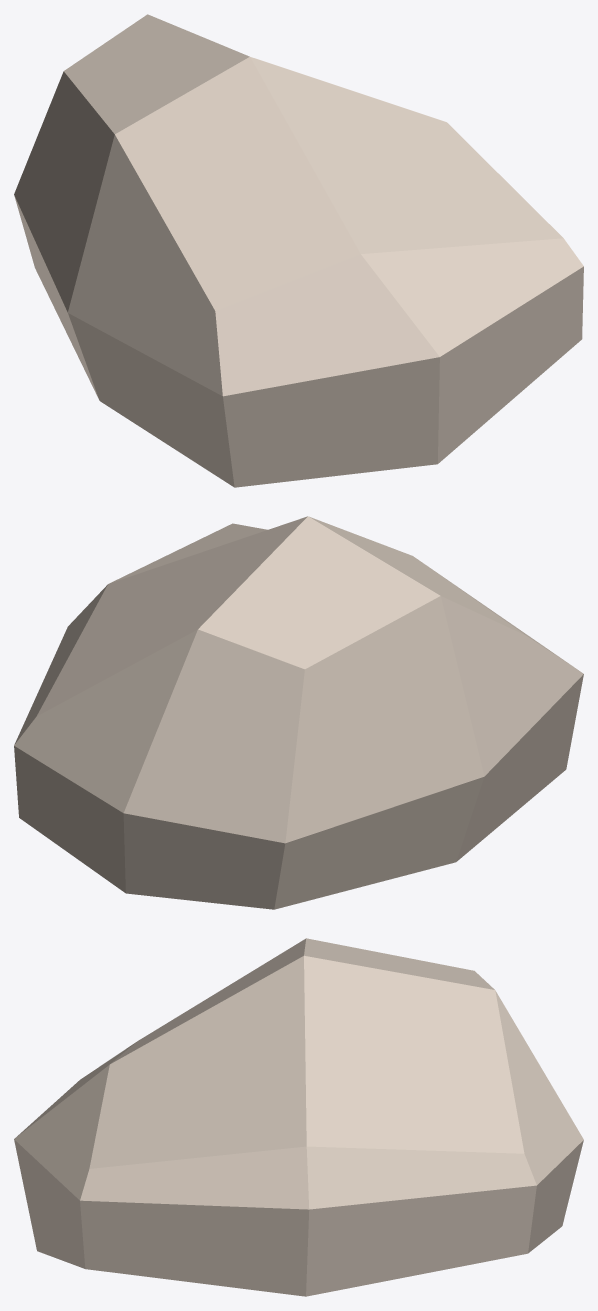
File: stone_04.obj
The picture shows the model from 3 angles, top to bottom: view 1: azimuth 30°, elevation 25°; view 2: azimuth 150°, elevation 25°; view 3: azimuth 270°, elevation 25°; orthographic projection. The views are drawn at different scales.
Visible parts, largest first — view 1: Stone_04; view 2: Stone_04; view 3: Stone_04.
Boxes of the visible parts, left/top/right/bottom form: Stone_04: left=14, top=14, right=583, bottom=487; Stone_04: left=14, top=516, right=583, bottom=909; Stone_04: left=14, top=938, right=583, bottom=1296.
Size of the model in its own units: 7.52 by 5.33 by 9.9.
